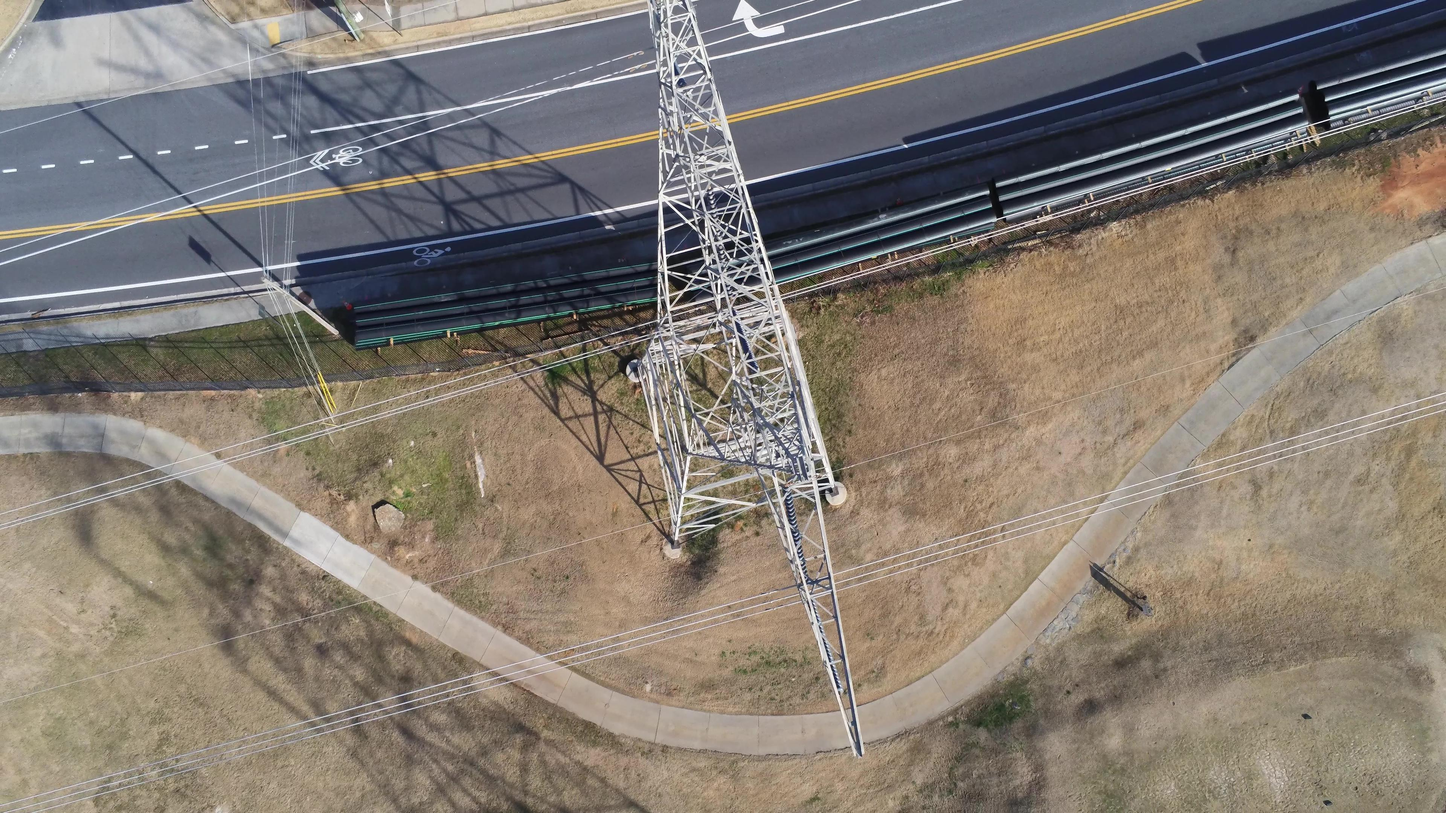power_tower: (626, 0, 865, 759)
